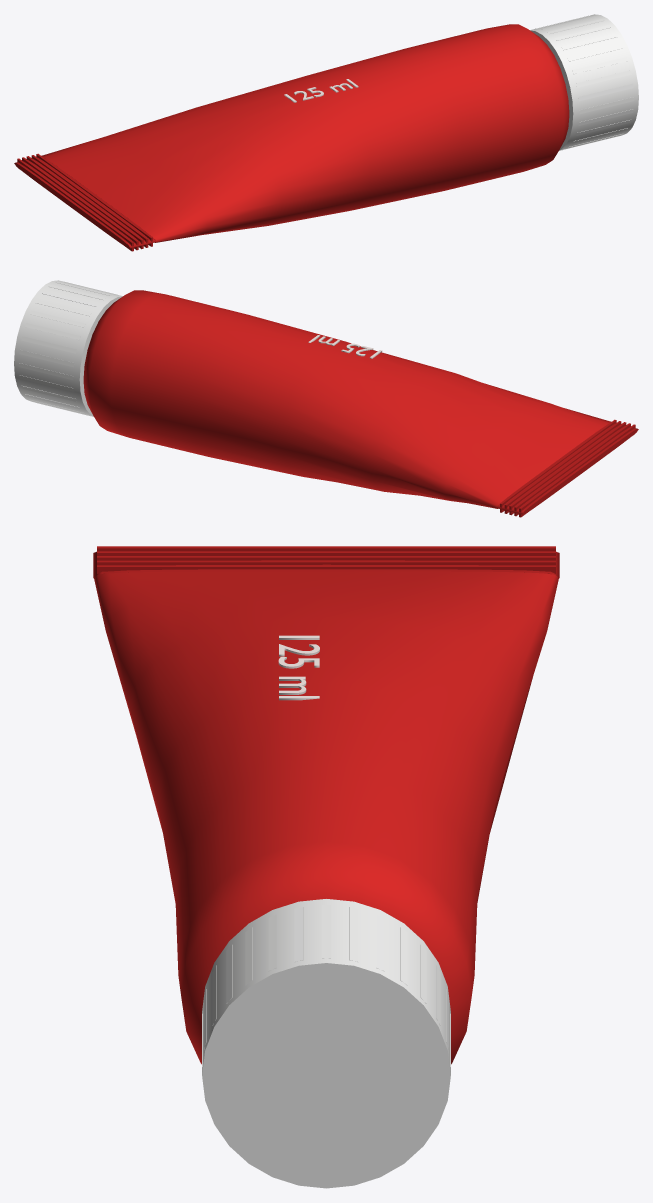
File: item-72.glb
The picture shows the model from 3 angles, top to bottom: view 1: azimuth 30°, elevation 25°; view 2: azimuth 150°, elevation 25°; view 3: azimuth 270°, elevation 25°; orthographic projection. The views are drawn at different scales.
Visible parts, largest first — view 1: tube, cap, crimp, crimp_rib, crimp_rib.001, crimp_rib.002, crimp_rib.003, crimp_rib.004, vol; view 2: tube, cap, crimp, crimp_rib, crimp_rib.001, crimp_rib.002, crimp_rib.003, crimp_rib.004, vol; view 3: tube, cap, crimp_rib, crimp_rib.003, crimp_rib.004, crimp_rib.001, crimp_rib.002, crimp, vol.
Boxes of the visible parts, x1,y1,x2,y2 form: tube: [41, 24, 569, 242]; cap: [530, 14, 638, 150]; crimp: [14, 157, 155, 248]; crimp_rib: [17, 158, 133, 251]; crimp_rib.001: [22, 157, 138, 250]; crimp_rib.002: [26, 156, 143, 249]; crimp_rib.003: [31, 155, 148, 247]; crimp_rib.004: [36, 153, 152, 246]; vol: [284, 79, 358, 102]; tube: [83, 290, 611, 508]; cap: [14, 280, 122, 416]; crimp: [497, 424, 638, 514]; crimp_rib: [519, 424, 635, 517]; crimp_rib.001: [514, 423, 630, 516]; crimp_rib.002: [509, 422, 626, 515]; crimp_rib.003: [504, 421, 621, 513]; crimp_rib.004: [500, 419, 616, 512]; vol: [308, 335, 382, 358]; tube: [94, 571, 558, 1064]; cap: [202, 899, 450, 1188]; crimp_rib: [97, 546, 555, 551]; crimp_rib.003: [97, 560, 555, 565]; crimp_rib.004: [97, 565, 555, 573]; crimp_rib.001: [97, 551, 555, 555]; crimp_rib.002: [97, 556, 555, 560]; crimp: [93, 551, 559, 578]; vol: [278, 635, 319, 700].
Size of the model in its own units: 0.167 by 0.04 by 0.063.
